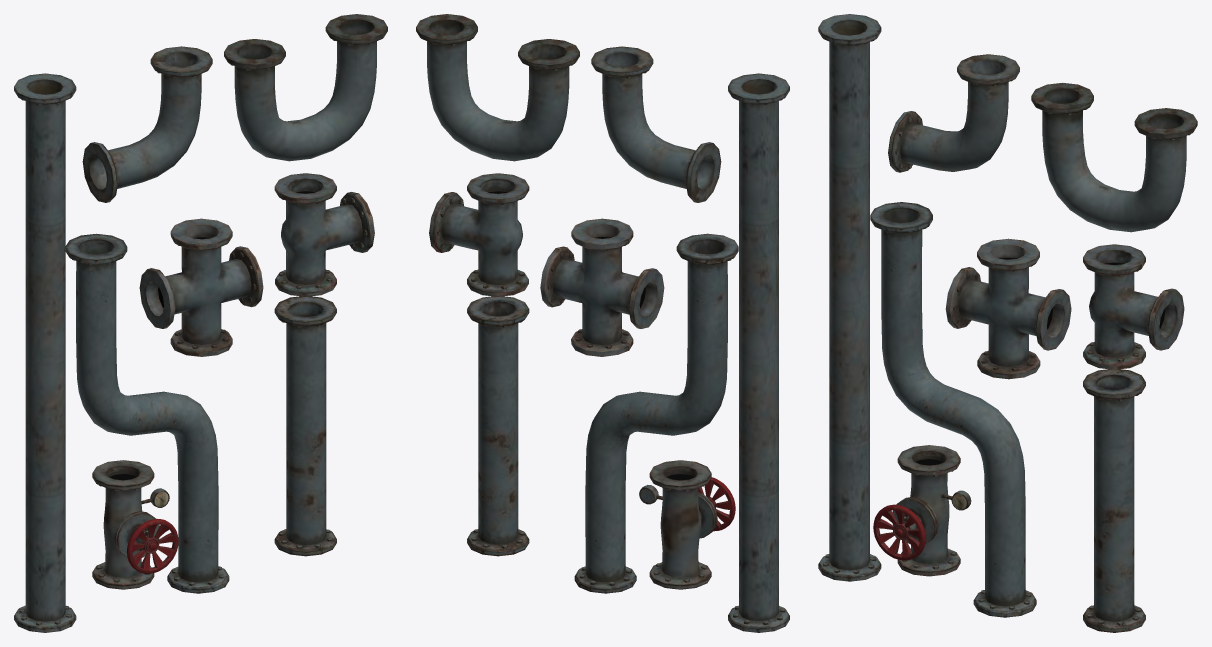
Rendered from modular_industrial_pipes_01.gltf.
The picture shows the model from 3 angles, left to right: view 1: azimuth 30°, elevation 25°; view 2: azimuth 150°, elevation 25°; view 3: azimuth 330°, elevation 25°; orthographic projection.
Parts seen in each view (by area): view 1: modular_industrial_pipes_01_pipe02, modular_industrial_pipes_01_pipe03, modular_industrial_pipes_01_pipe05, modular_industrial_pipes_01_pipe01, modular_industrial_pipes_01_pipe07, modular_industrial_pipes_01_pipe04, modular_industrial_pipes_01_pipe06, modular_industrial_pipes_01_pipe08; view 2: modular_industrial_pipes_01_pipe02, modular_industrial_pipes_01_pipe03, modular_industrial_pipes_01_pipe05, modular_industrial_pipes_01_pipe01, modular_industrial_pipes_01_pipe07, modular_industrial_pipes_01_pipe04, modular_industrial_pipes_01_pipe06, modular_industrial_pipes_01_pipe08; view 3: modular_industrial_pipes_01_pipe02, modular_industrial_pipes_01_pipe03, modular_industrial_pipes_01_pipe05, modular_industrial_pipes_01_pipe01, modular_industrial_pipes_01_pipe07, modular_industrial_pipes_01_pipe06, modular_industrial_pipes_01_pipe04, modular_industrial_pipes_01_pipe08.
Part boxes in pixels (x1=…): modular_industrial_pipes_01_pipe02: x1=14, y1=73, x2=76, y2=632; modular_industrial_pipes_01_pipe03: x1=65, y1=233, x2=229, y2=593; modular_industrial_pipes_01_pipe05: x1=224, y1=14, x2=387, y2=161; modular_industrial_pipes_01_pipe01: x1=274, y1=296, x2=336, y2=556; modular_industrial_pipes_01_pipe07: x1=139, y1=218, x2=263, y2=356; modular_industrial_pipes_01_pipe04: x1=82, y1=46, x2=212, y2=202; modular_industrial_pipes_01_pipe06: x1=274, y1=173, x2=374, y2=296; modular_industrial_pipes_01_pipe08: x1=92, y1=460, x2=178, y2=589; modular_industrial_pipes_01_pipe02: x1=728, y1=73, x2=789, y2=632; modular_industrial_pipes_01_pipe03: x1=574, y1=233, x2=738, y2=593; modular_industrial_pipes_01_pipe05: x1=416, y1=14, x2=579, y2=161; modular_industrial_pipes_01_pipe01: x1=467, y1=296, x2=529, y2=556; modular_industrial_pipes_01_pipe07: x1=540, y1=218, x2=664, y2=356; modular_industrial_pipes_01_pipe04: x1=591, y1=46, x2=721, y2=202; modular_industrial_pipes_01_pipe06: x1=429, y1=173, x2=529, y2=296; modular_industrial_pipes_01_pipe08: x1=639, y1=460, x2=735, y2=589; modular_industrial_pipes_01_pipe02: x1=818, y1=14, x2=881, y2=581; modular_industrial_pipes_01_pipe03: x1=870, y1=202, x2=1036, y2=617; modular_industrial_pipes_01_pipe05: x1=1031, y1=82, x2=1197, y2=232; modular_industrial_pipes_01_pipe01: x1=1083, y1=369, x2=1145, y2=632; modular_industrial_pipes_01_pipe07: x1=945, y1=238, x2=1071, y2=379; modular_industrial_pipes_01_pipe06: x1=1083, y1=244, x2=1184, y2=369; modular_industrial_pipes_01_pipe04: x1=888, y1=54, x2=1019, y2=172; modular_industrial_pipes_01_pipe08: x1=873, y1=445, x2=971, y2=576.
Bounding box in the file's own units: 1.4 × 1.95 × 0.3076.
Materials: 2 (2 with a texture image).
